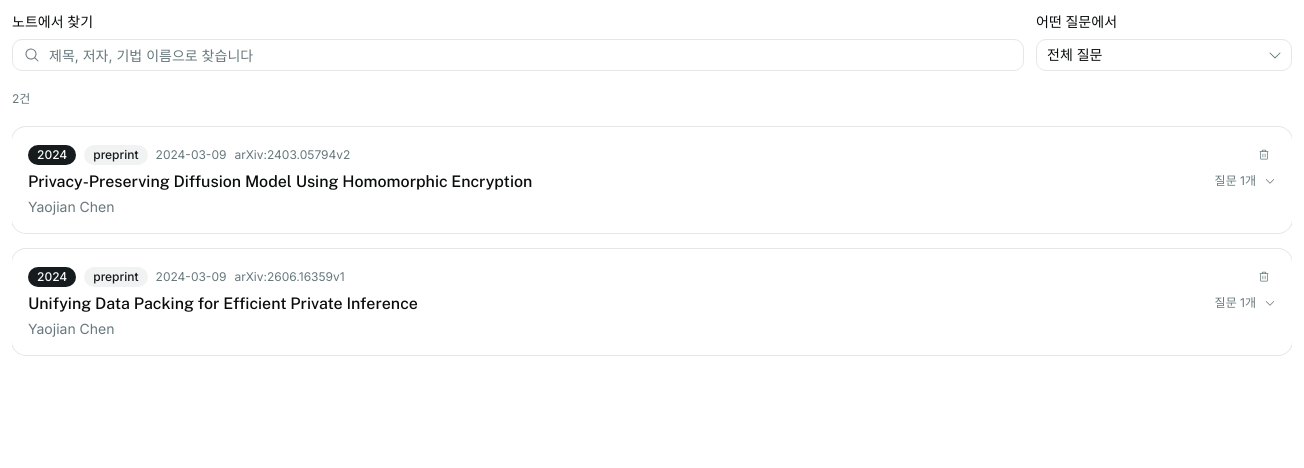
NoteBrowser › 카드가 노트에서 빠지면 그 카드에만 있던 질문도 목록에서 사라진다
Step 1. Click the dropdown named "어떤 질문에서" → (1164, 55), box [1036,39,1292,71]
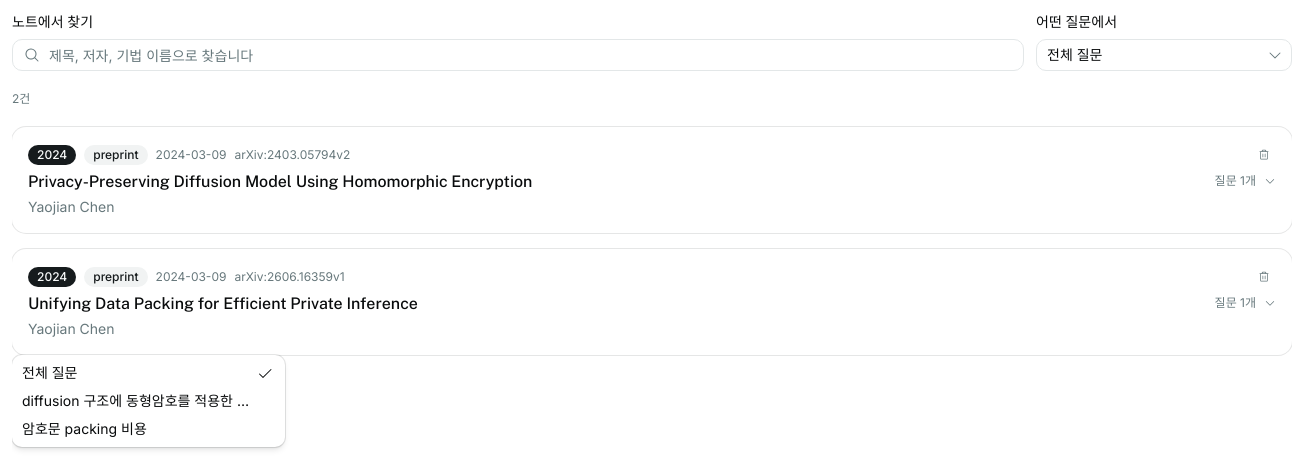
Result: the option "암호문 packing 비용" is shown at [22,420,147,437]
